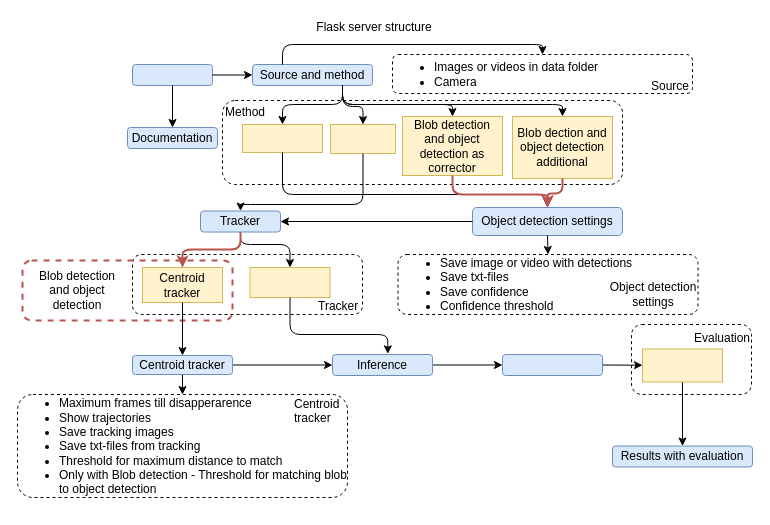
The diagram is 770 pixels wide and 525 high, and some of its shapes have lost their labels. Here are the shapes that lost their labels. From the top down, the centre of each, then its label:
pixel 172 75: Start page
pixel 282 138: Object detection
pixel 363 139: Blob detection
pixel 289 282: No tracker
pixel 552 365: Results
pixel 682 365: Evaluation data
